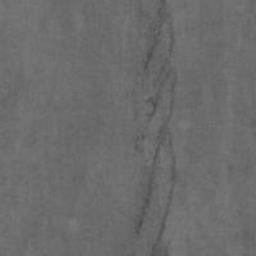Water spot: (132, 0, 182, 256)
